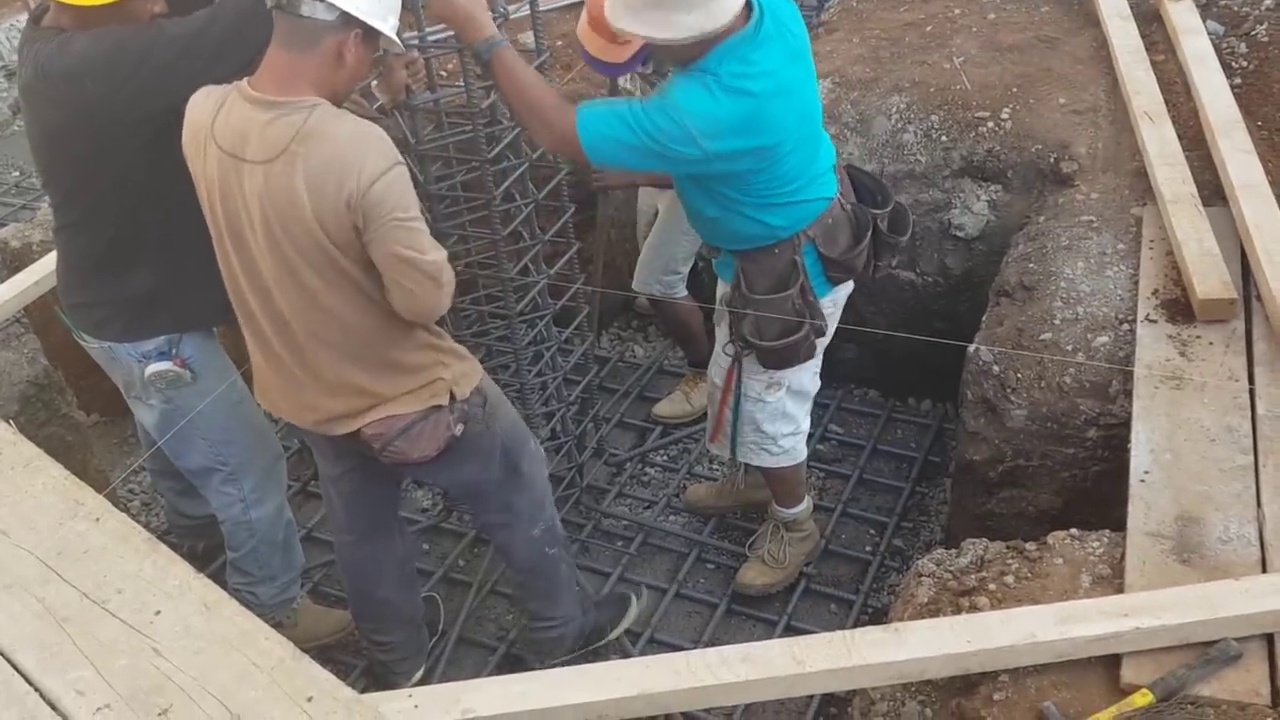helmet: (283, 3, 409, 58)
helmet-off: (601, 0, 772, 82)
helmet-on: (236, 4, 399, 105)
person: (188, 4, 639, 684), (444, 0, 859, 594), (19, 0, 347, 641), (586, 137, 723, 440)
